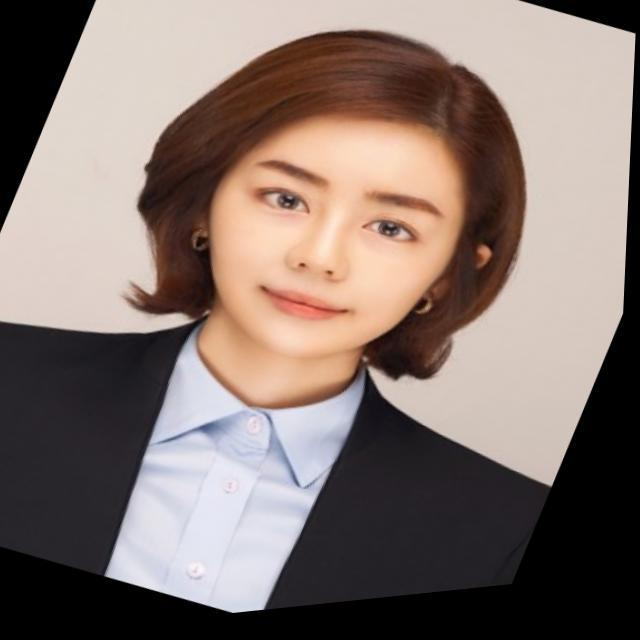Nonhelmet: (144, 12, 503, 373)
